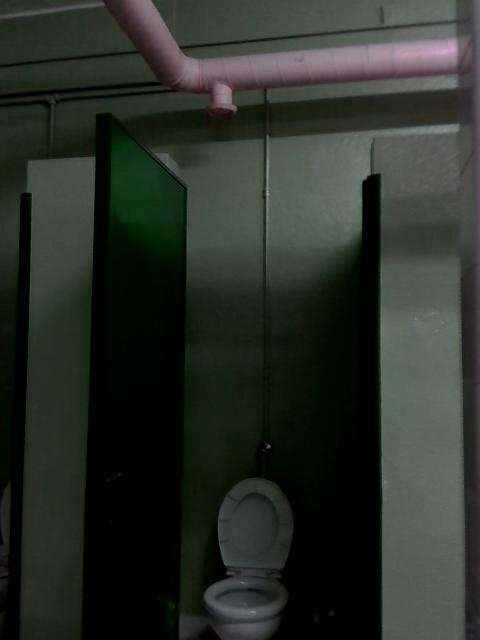open_door: (167, 133, 381, 639)
